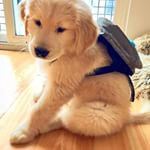puppy: (10, 1, 89, 146)
